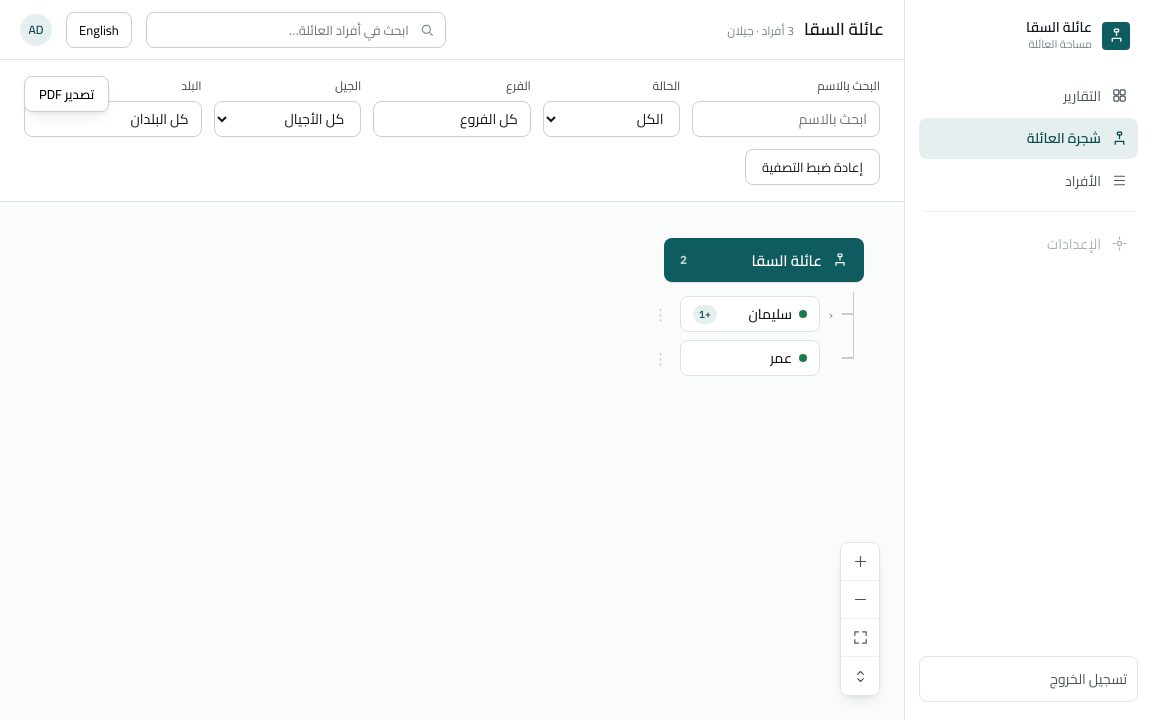
Test: TreePage › shows the ancestry beside the editable name, and does not let it be edited
The width and height of the screenshot is (1152, 720).
expect the text "سليمان" is shown: met, box [748,301,792,327]
Click the button named "توسيع".
click(831, 314)  # box [820,303,842,325]
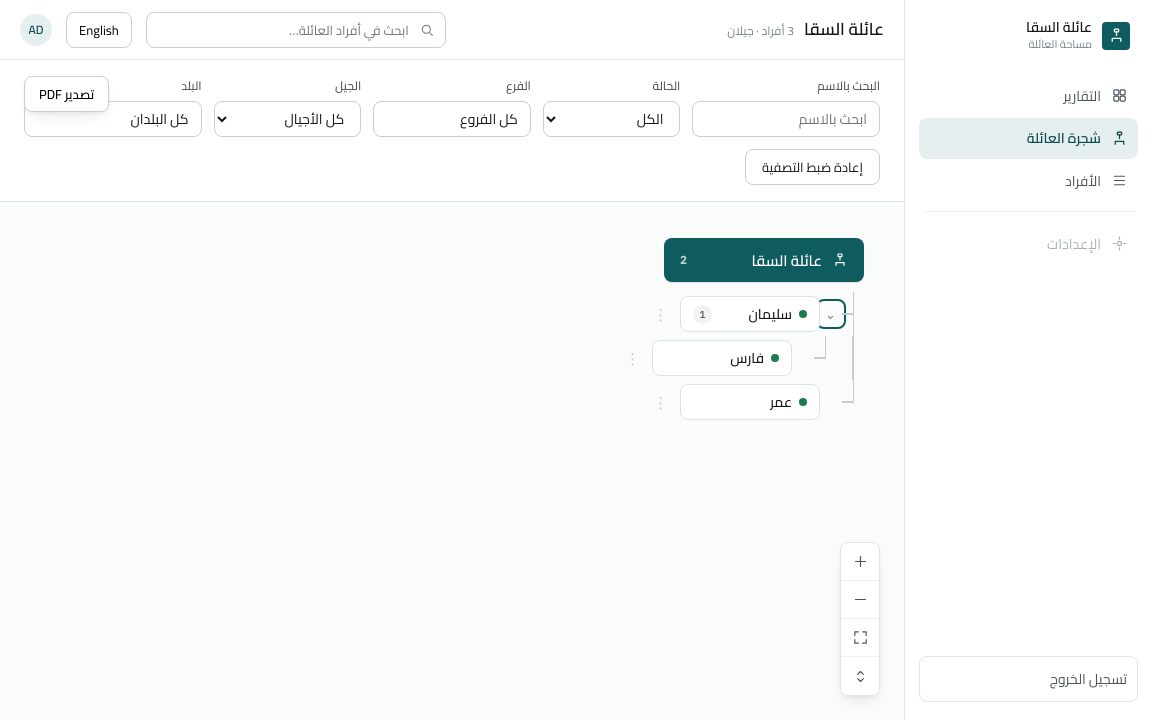
Click the button "فارس".
click(722, 358)  # box [652,340,792,376]
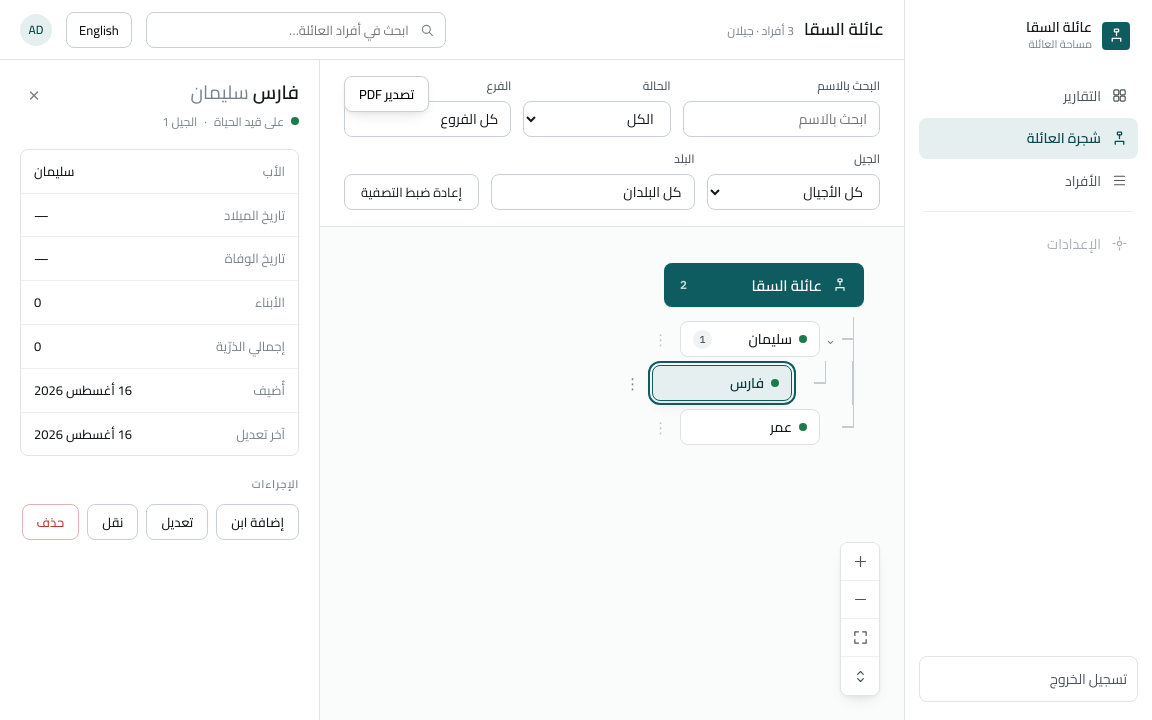
Click the button "تعديل".
click(177, 522)  # box [146,504,208,540]
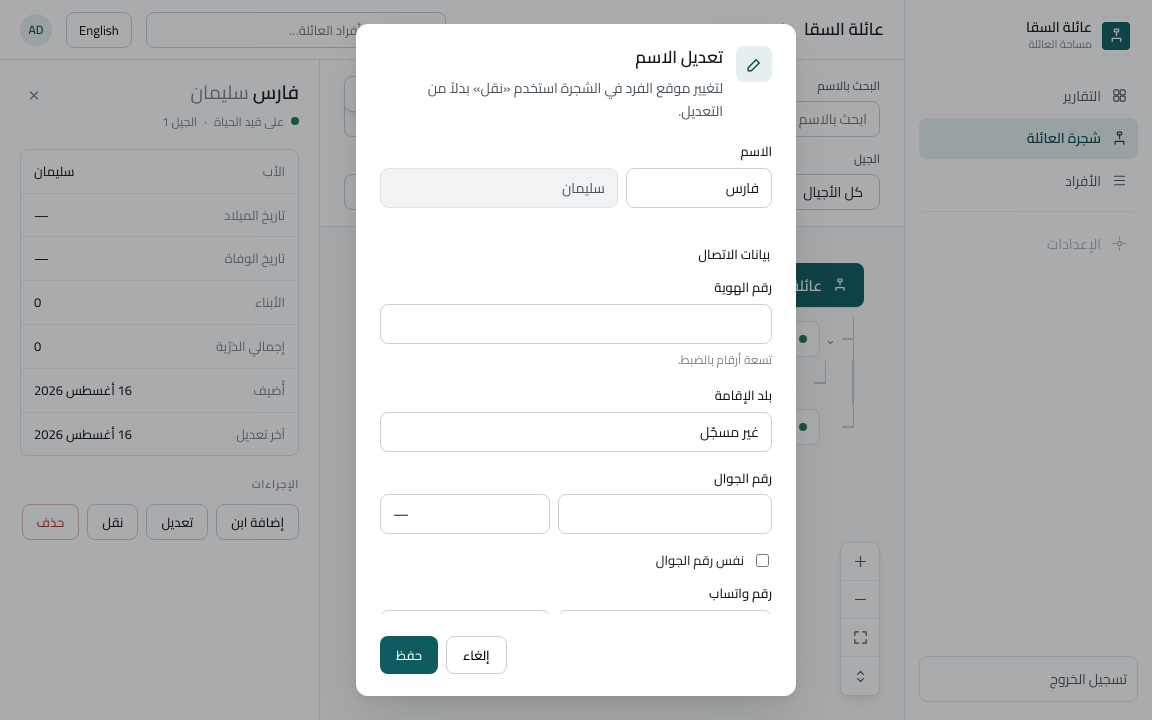
expect the field named "النسب" holds "سليمان": met, box [380,168,618,208]
expect the field named "النسب" is disabled: met, box [380,168,618,208]
